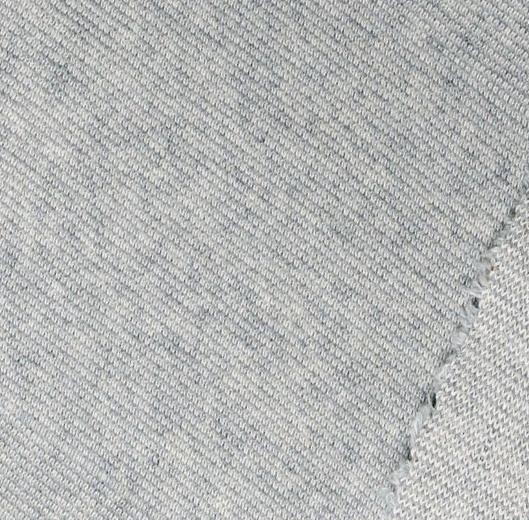slub: (386, 176, 528, 498)
